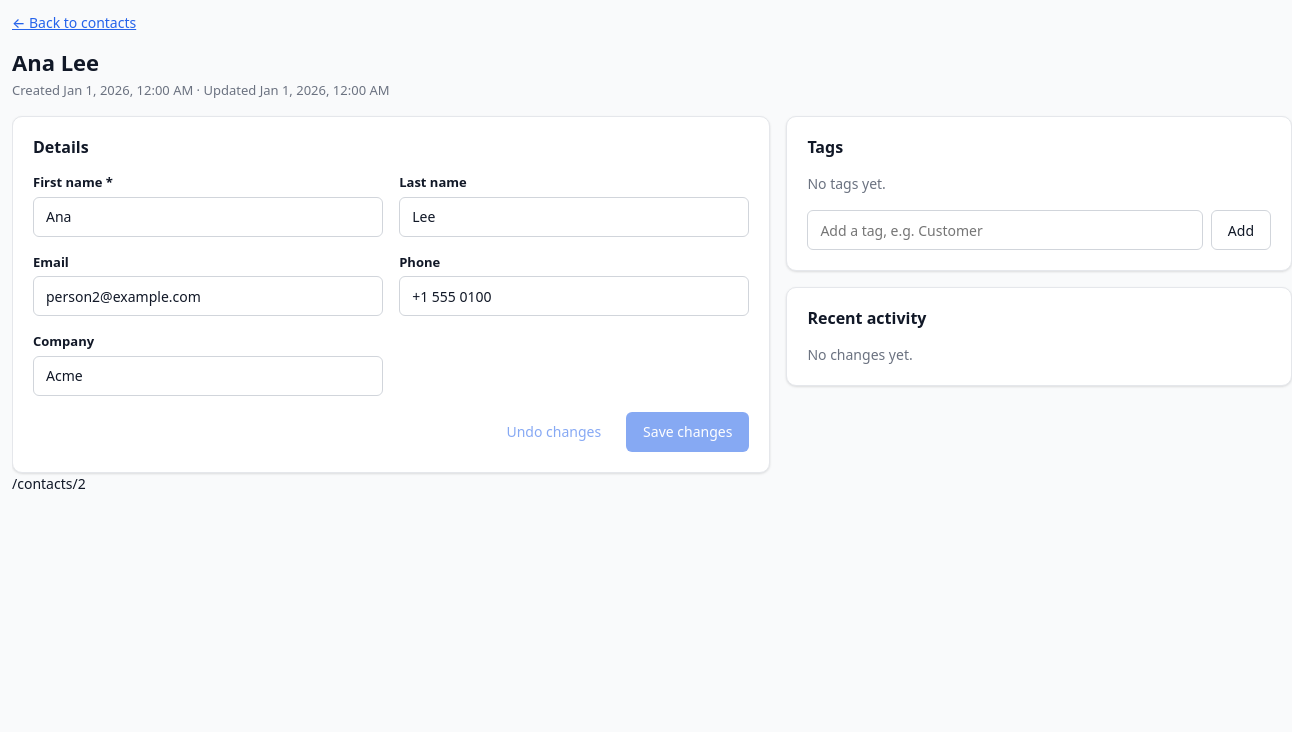
it: ContactDetailPage › sends only changed fields plus the version, then confirms
Expected: the heading "Ana Lee" is shown, [12,47,99,77]
Replace the text in the field labelled "Company" with "  Globex  " at [208, 376], box [33,356,383,396]
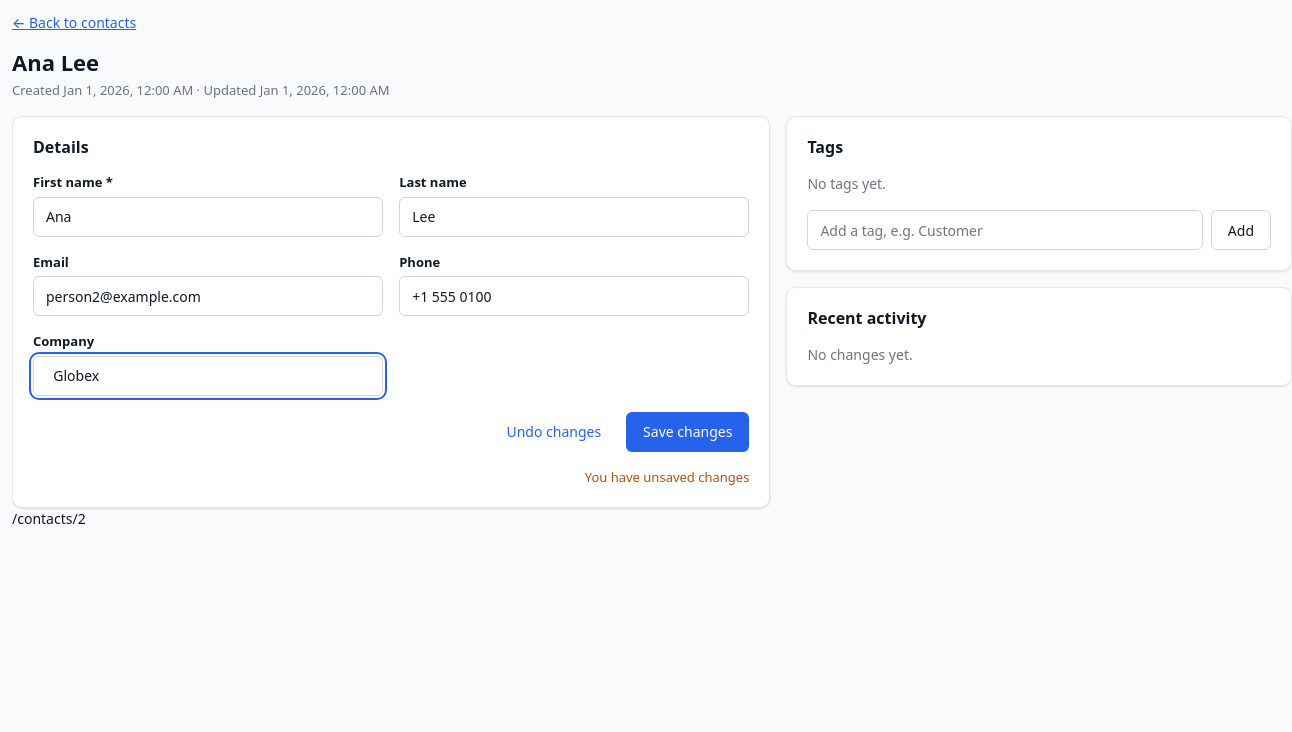
Click the button "Save changes" at [688, 432], box [626,412,749,452]
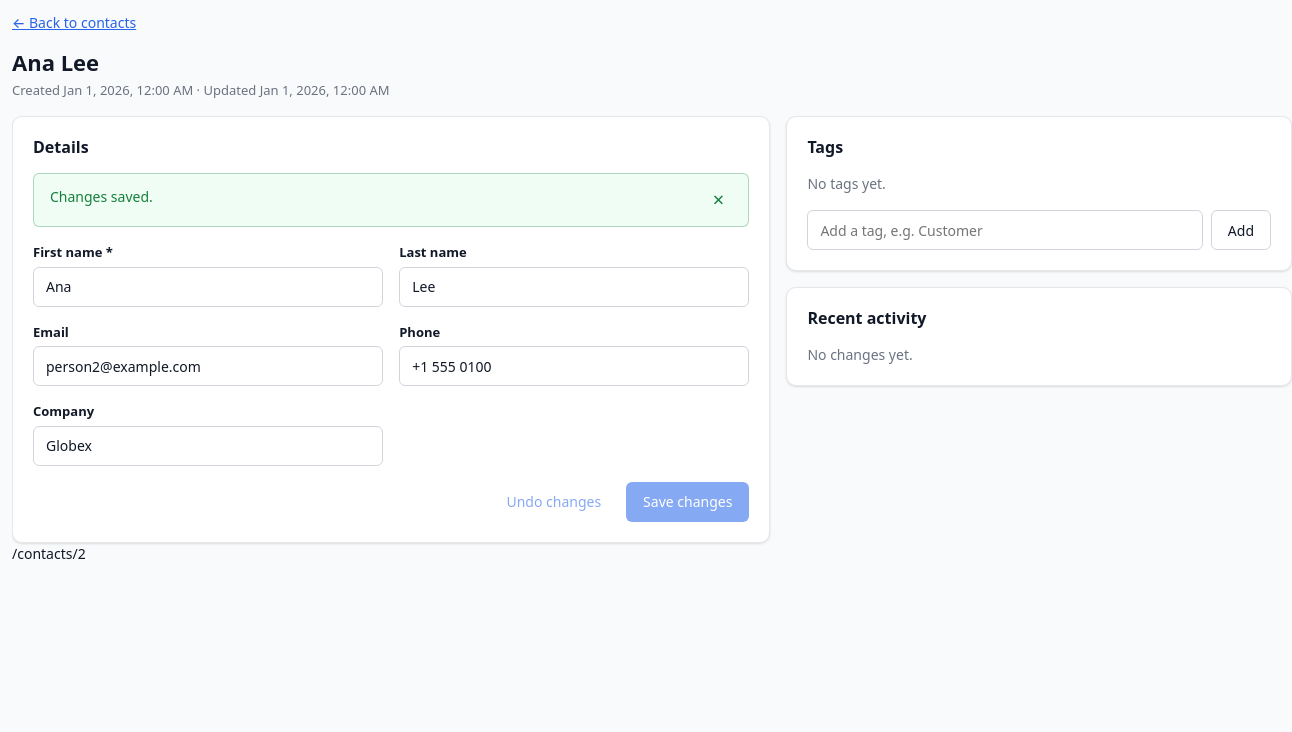
Now the text "Changes saved." is shown, box [50,186,153,207]
Now the button "Save changes" is disabled, box [626,482,749,522]
